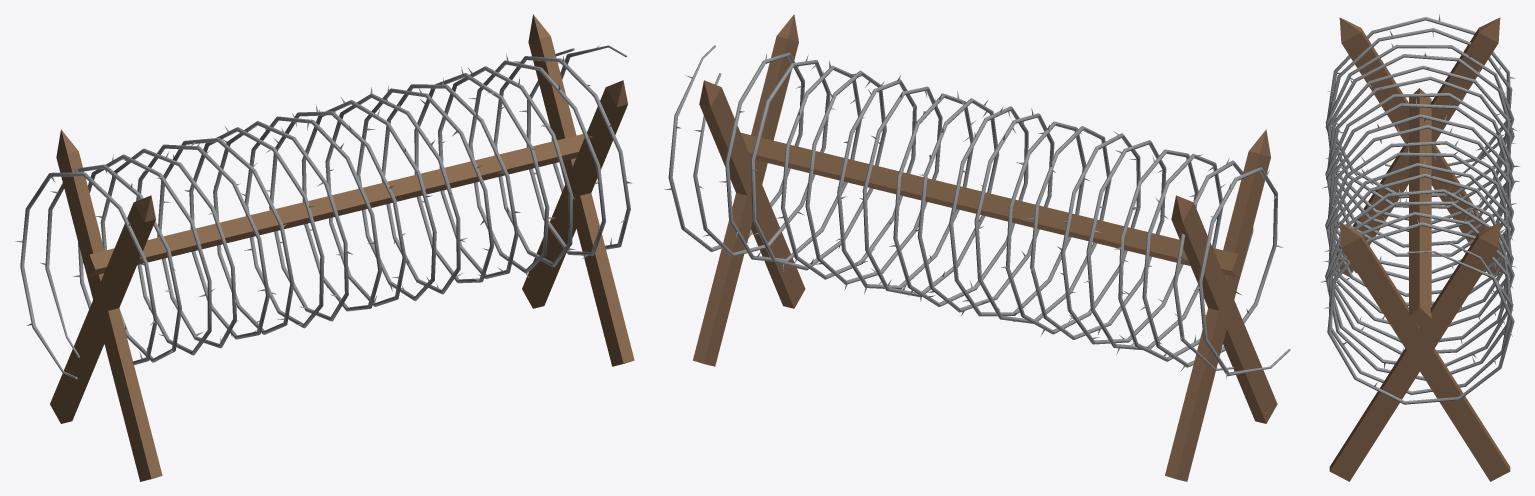
File: Barbwire 1.fbx
3 renders of one model, left to right at view 1: azimuth 30°, elevation 25°; view 2: azimuth 150°, elevation 25°; view 3: azimuth 270°, elevation 25°, orthographic. The views are drawn at different scales.
Parts seen in each view (by area): view 1: Barb_Wire_1; view 2: Barb_Wire_1; view 3: Barb_Wire_1.
Boxes of the visible parts, x1,y1,x2,y2 form: Barb_Wire_1: (15, 14, 634, 481); Barb_Wire_1: (664, 14, 1290, 481); Barb_Wire_1: (1320, 14, 1519, 481).
Bounding box in the file's own units: 218 × 107 × 75.73.
